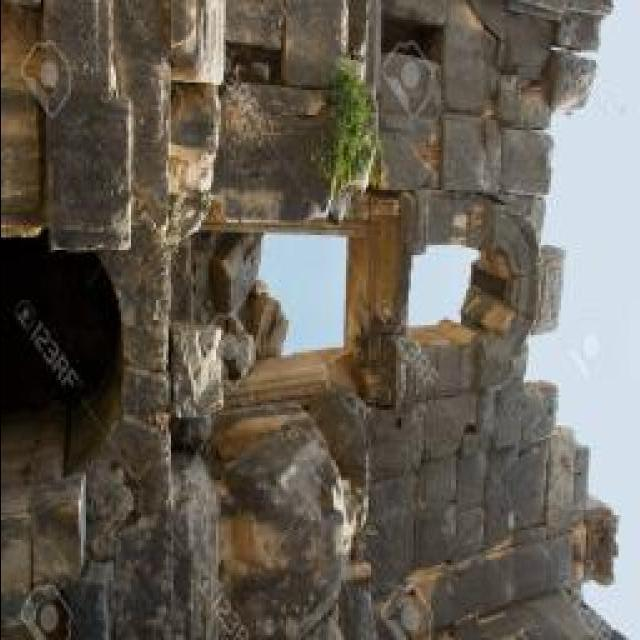crack: (5, 0, 625, 638), (126, 18, 209, 612), (43, 92, 134, 251), (466, 202, 544, 303), (3, 412, 72, 520), (165, 80, 222, 198), (179, 226, 245, 322), (439, 4, 495, 116), (279, 1, 348, 89), (3, 88, 47, 221), (111, 1, 167, 104), (375, 45, 443, 128), (406, 189, 487, 252), (373, 118, 441, 193), (165, 0, 224, 85), (228, 79, 330, 127), (28, 505, 82, 590), (496, 125, 555, 200), (440, 113, 494, 194), (490, 4, 550, 74), (542, 50, 599, 118), (240, 286, 291, 362), (68, 561, 117, 633), (224, 1, 286, 56), (496, 73, 550, 130), (213, 315, 258, 383), (0, 518, 34, 607), (223, 40, 287, 85), (213, 186, 286, 223), (511, 1, 610, 27), (553, 7, 606, 54)
vegetation: (308, 53, 383, 217)
